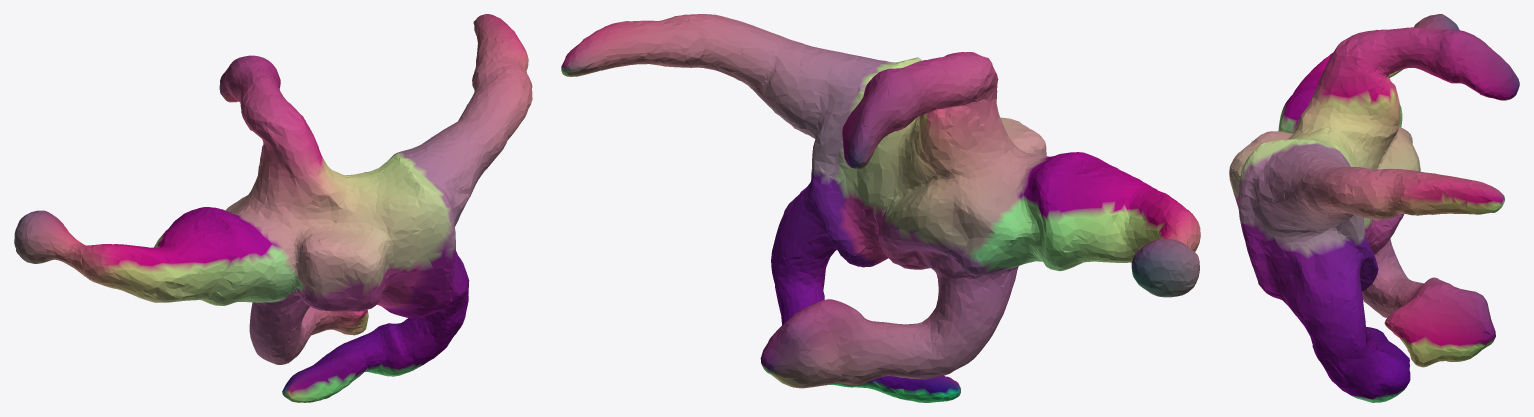
File: santa-10.off.obj
3 renders of one model, left to right at view 1: azimuth 30°, elevation 25°; view 2: azimuth 150°, elevation 25°; view 3: azimuth 270°, elevation 25°, orthographic. The views are drawn at different scales.
Size of the model in its own units: 1.63 by 0.969 by 0.7952.
